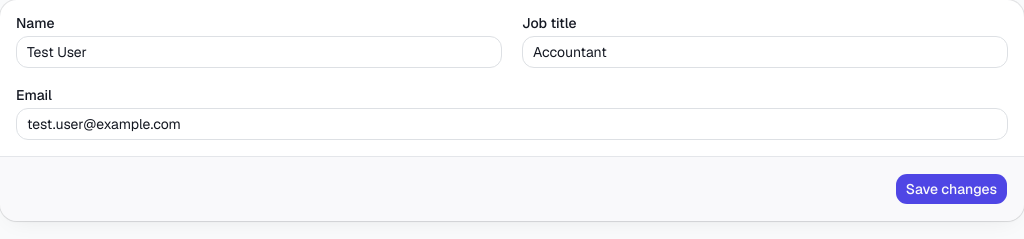
Test case: ProfileForm › saves the edited profile and confirms it
Replace the text in the field labelled "Name" with "Grace Hopper": (259, 52) top-left (16, 36), bottom-right (502, 68)
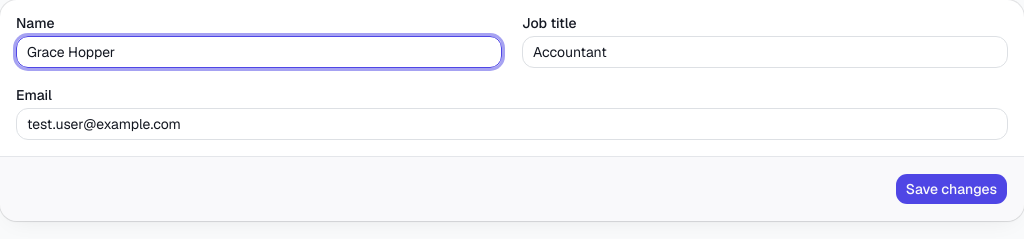
Click the button "Save changes": (951, 189) top-left (895, 173), bottom-right (1008, 205)
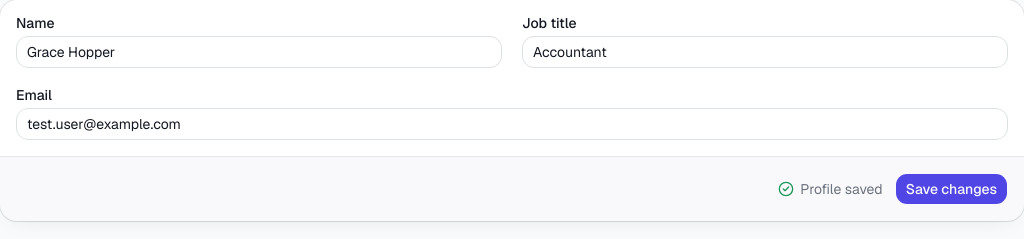
Expected: the message reads "Profile saved", top-left (800, 180), bottom-right (883, 198)
